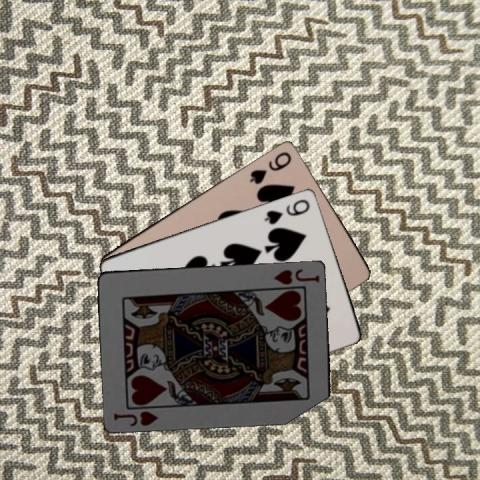9s: (246, 148, 293, 185), (262, 195, 312, 226)
Jh: (110, 405, 162, 427), (271, 266, 321, 286)
